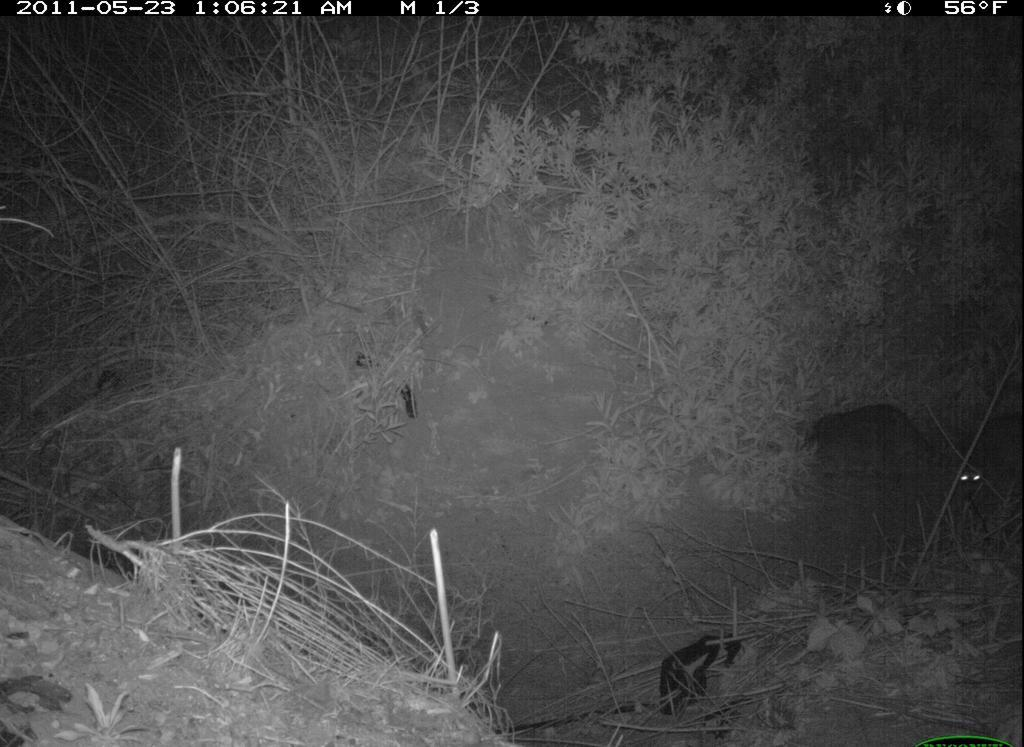raccoon: (776, 390, 990, 507)
